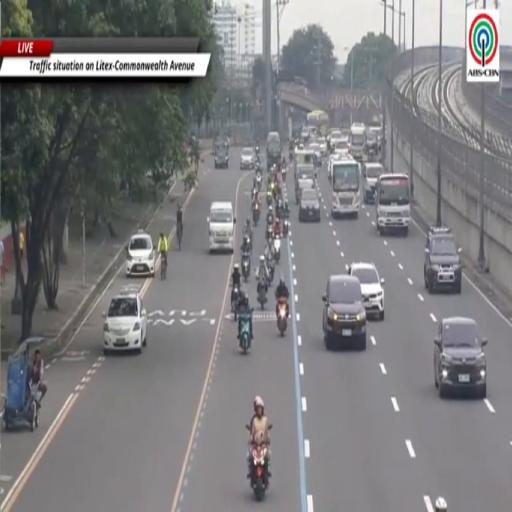bus: (376, 173, 410, 235), (330, 155, 360, 218), (307, 110, 329, 137)
car: (435, 317, 487, 397), (322, 275, 366, 349), (104, 291, 147, 354), (424, 227, 462, 294), (348, 263, 384, 319), (207, 202, 236, 253), (126, 230, 157, 277), (362, 163, 384, 203), (299, 187, 320, 221), (296, 179, 315, 204), (215, 142, 229, 168), (308, 142, 322, 167), (240, 148, 255, 169), (366, 131, 378, 155), (328, 154, 338, 178), (334, 139, 349, 154), (318, 138, 327, 157)
motorcycle: (250, 443, 269, 501), (239, 313, 251, 354), (277, 298, 287, 337), (257, 278, 268, 310), (231, 285, 239, 321), (242, 252, 250, 282), (274, 236, 281, 263), (252, 204, 260, 227), (268, 259, 274, 285), (276, 197, 283, 218), (283, 219, 289, 237), (256, 173, 261, 191), (266, 226, 272, 241), (267, 189, 272, 205), (282, 167, 286, 181), (289, 151, 294, 162), (255, 147, 260, 155)
tricycle: (2, 338, 43, 430)
truck: (350, 123, 366, 162)
